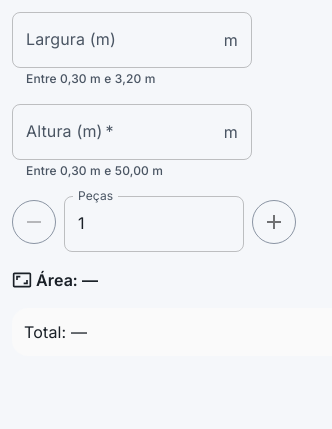
Test: QuantityConfigurator › exibe o erro 422 do servidor (ex.: inverter medidas) no campo
Type "1,20" into the field labelled "Largura (m)" at (114, 40), box [12,12,216,68]
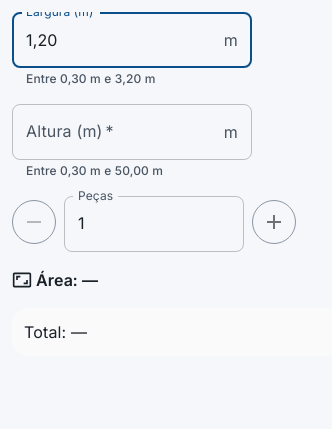
Type "2,50" into the field labelled "Altura (m) *" at (114, 132), box [12,104,216,160]
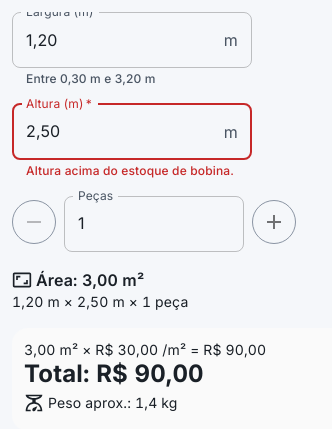
Now the text "Altura acima do estoque de bobina." is shown, box [26,163,238,180]
